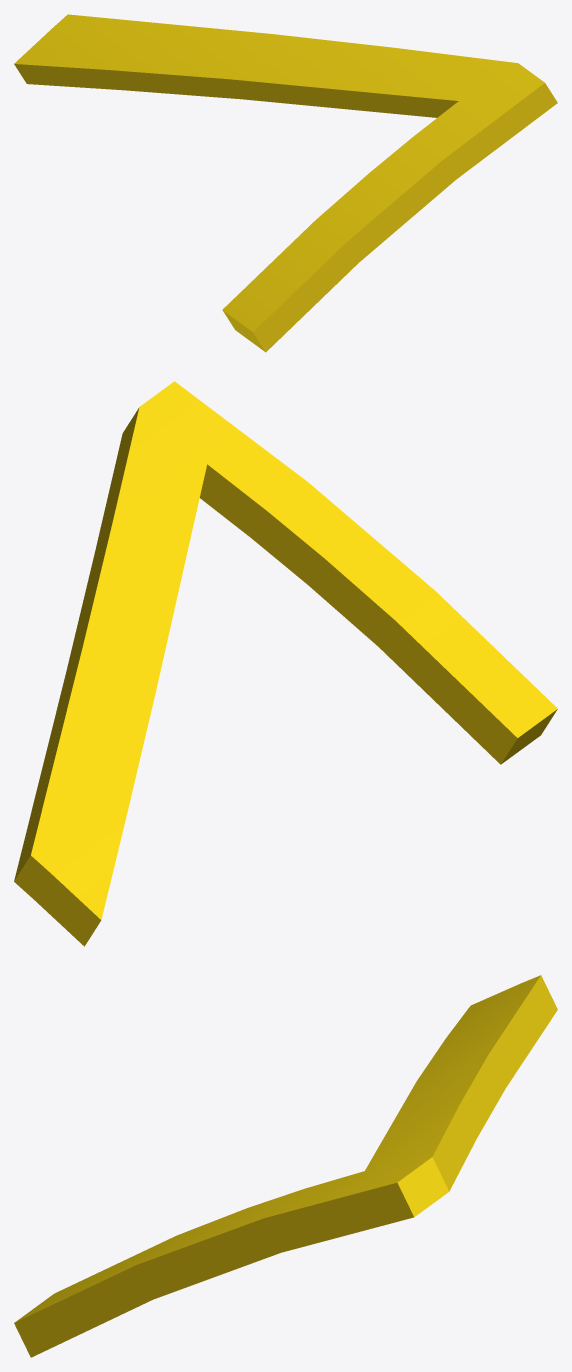
File: Number_7.gltf
3 renders of one model, top to bottom at view 1: azimuth 30°, elevation 25°; view 2: azimuth 150°, elevation 25°; view 3: azimuth 330°, elevation 25°, orthographic. The views are drawn at different scales.
Visible parts, largest first — view 1: Sub_6_Cell_1_2_Number_7; view 2: Sub_6_Cell_1_2_Number_7; view 3: Sub_6_Cell_1_2_Number_7.
Boxes of the visible parts, <box> form: Sub_6_Cell_1_2_Number_7: <box>14,14,557,352</box>; Sub_6_Cell_1_2_Number_7: <box>14,381,557,946</box>; Sub_6_Cell_1_2_Number_7: <box>14,975,557,1357</box>.
Bounding box in the file's own units: 0.0151 × 0.00955 × 0.0252.
